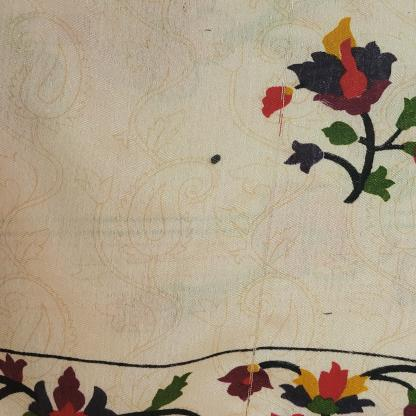spot: (202, 146, 228, 170), (321, 307, 337, 320), (203, 26, 215, 33)
